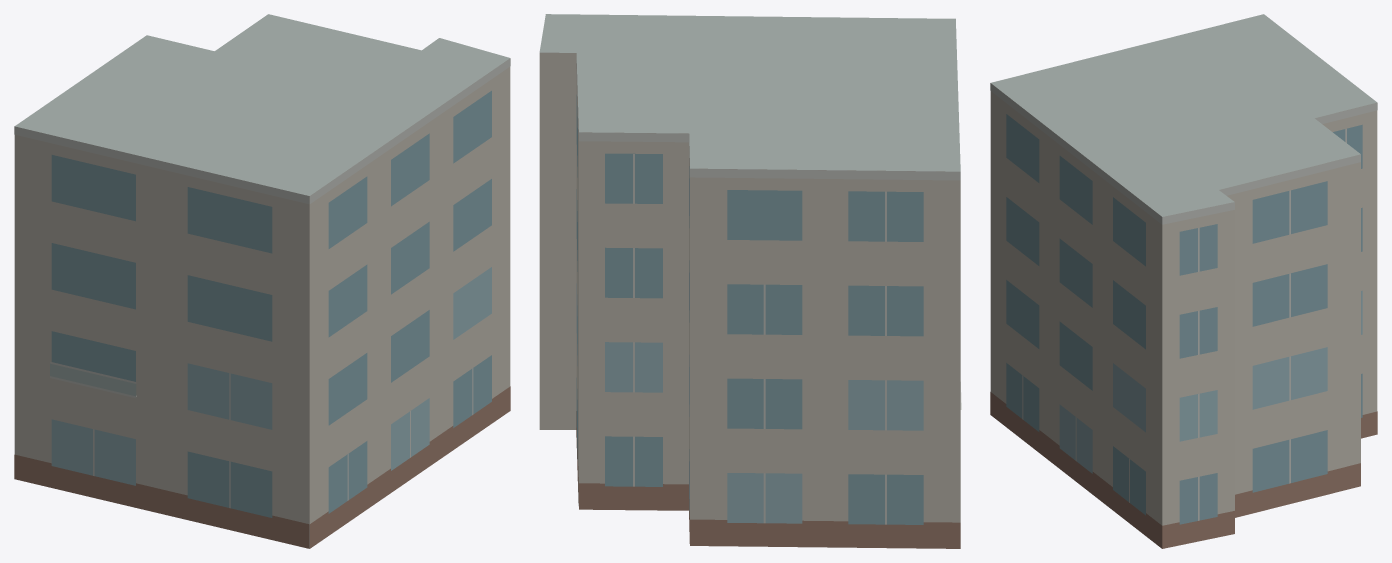
Rendered from survey-upis-32519527.glb.
The picture shows the model from 3 angles, left to right: view 1: azimuth 30°, elevation 25°; view 2: azimuth 150°, elevation 25°; view 3: azimuth 270°, elevation 25°; orthographic projection. The views are drawn at different scales.
Parts seen in each view (by area): view 1: survey-upis-32519527.tmp; view 2: survey-upis-32519527.tmp; view 3: survey-upis-32519527.tmp.
Part boxes in pixels (bbox=[...]): survey-upis-32519527.tmp: bbox=[14, 14, 510, 548]; survey-upis-32519527.tmp: bbox=[539, 14, 961, 548]; survey-upis-32519527.tmp: bbox=[990, 14, 1377, 548].
Bounding box in the file's own units: 13.65 × 10.4 × 11.
